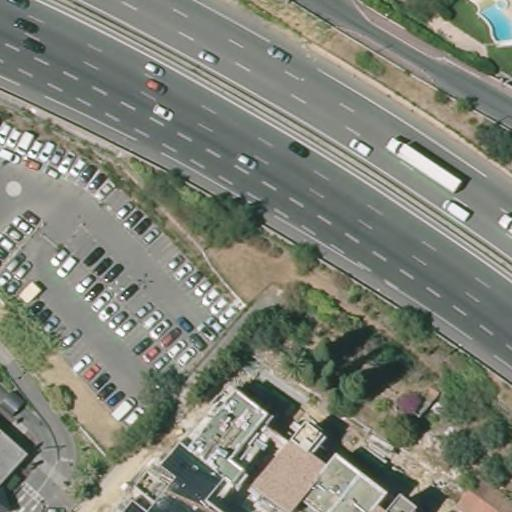pool: (477, 0, 511, 45)
